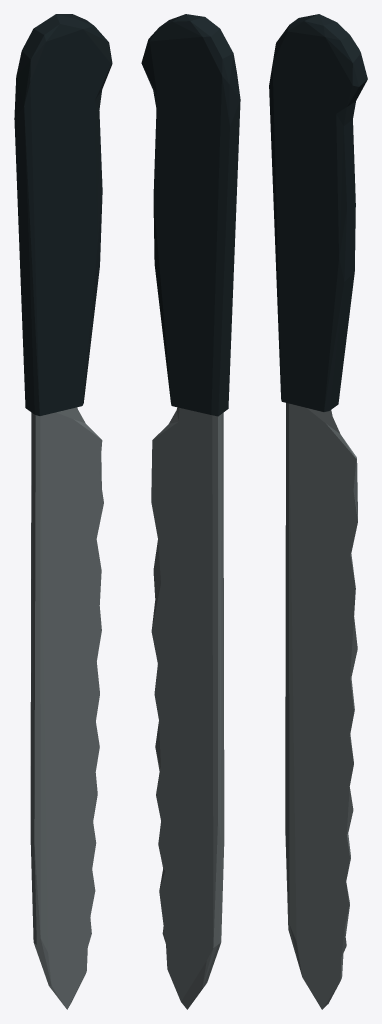
Rendered from Knife08.fbx.
3 renders of one model, left to right at view 1: azimuth 30°, elevation 25°; view 2: azimuth 150°, elevation 25°; view 3: azimuth 330°, elevation 25°, orthographic.
Parts seen in each view (by area): view 1: Knife08LowPoly; view 2: Knife08LowPoly; view 3: Knife08LowPoly.
Boxes of the visible parts, x1,y1,x2,y2 form: Knife08LowPoly: (14,14,112,1009); Knife08LowPoly: (141,14,240,1009); Knife08LowPoly: (269,14,367,1009).
Bounding box in the file's own units: 2.06 × 21.89 × 0.5341.
